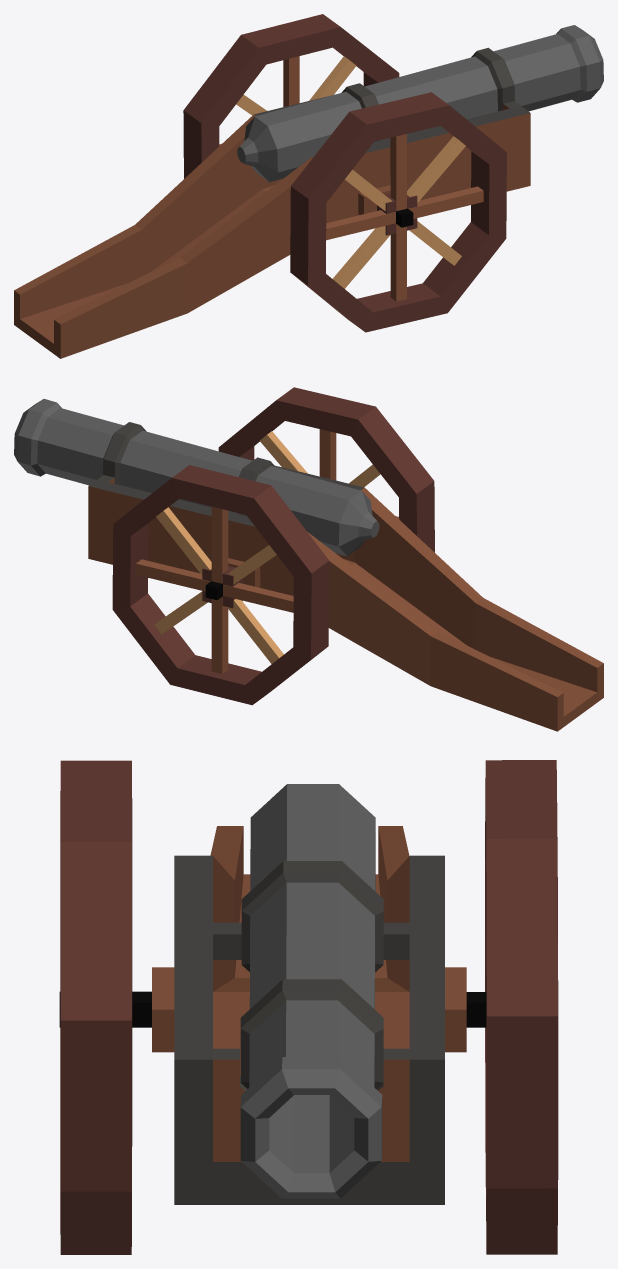
Rendered from cannon_lowpoly.fbx.
3 views of the same model, one above another, from view 1: azimuth 30°, elevation 25°; view 2: azimuth 150°, elevation 25°; view 3: azimuth 270°, elevation 25° (orthographic). The views are drawn at different scales.
Parts seen in each view (by area): view 1: gun-carriage, right wheel, gun, left wheel; view 2: gun-carriage, left wheel, gun, right wheel; view 3: gun-carriage, gun, left wheel, right wheel.
Part boxes in pixels (x1=…): gun-carriage: x1=14, y1=95, x2=530, y2=358; right wheel: x1=290, y1=92, x2=506, y2=332; gun: x1=237, y1=25, x2=603, y2=182; left wheel: x1=183, y1=14, x2=399, y2=178; gun-carriage: x1=88, y1=456, x2=603, y2=731; left wheel: x1=112, y1=465, x2=329, y2=705; gun: x1=14, y1=399, x2=379, y2=556; right wheel: x1=218, y1=387, x2=434, y2=552; gun-carriage: x1=152, y1=826, x2=466, y2=1204; gun: x1=240, y1=784, x2=383, y2=1198; left wheel: x1=466, y1=760, x2=558, y2=1254; right wheel: x1=59, y1=760, x2=151, y2=1254.
Size of the model in its own units: 411 by 148 by 160.
